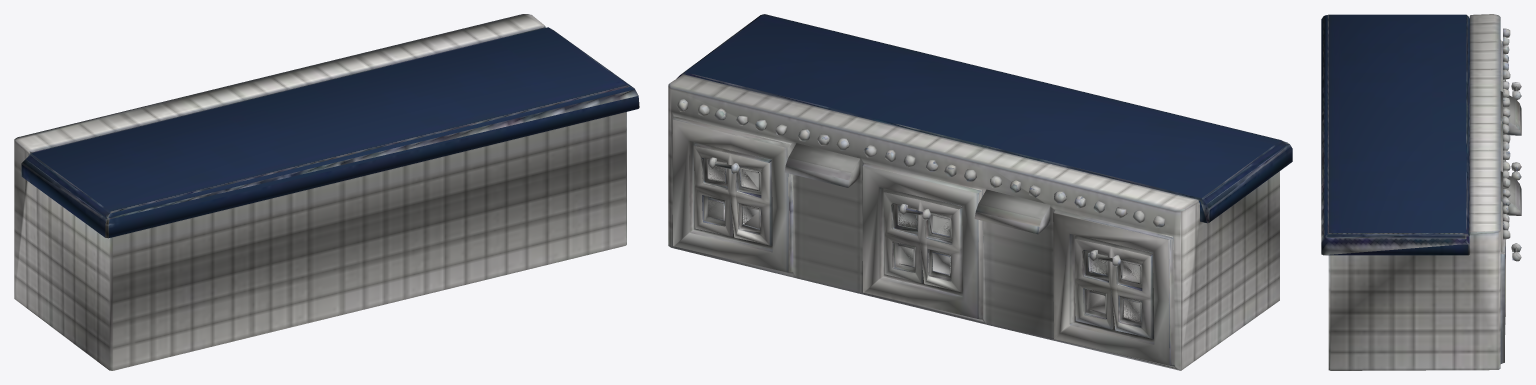
The model's file is piscina_banco.glb.
3 views of the same model, side by side, from view 1: azimuth 30°, elevation 25°; view 2: azimuth 150°, elevation 25°; view 3: azimuth 270°, elevation 25° (orthographic). The views are drawn at different scales.
Parts seen in each view (by area): view 1: Navy Mosaic Poolside Bench; view 2: Navy Mosaic Poolside Bench; view 3: Navy Mosaic Poolside Bench.
Boxes of the visible parts, left/top/right/bottom form: Navy Mosaic Poolside Bench: left=14, top=14, right=639, bottom=370; Navy Mosaic Poolside Bench: left=668, top=14, right=1292, bottom=370; Navy Mosaic Poolside Bench: left=1321, top=14, right=1521, bottom=370.
Bounding box in the file's own units: 0.998 × 0.2871 × 0.375.
1 material, 1 textured.
